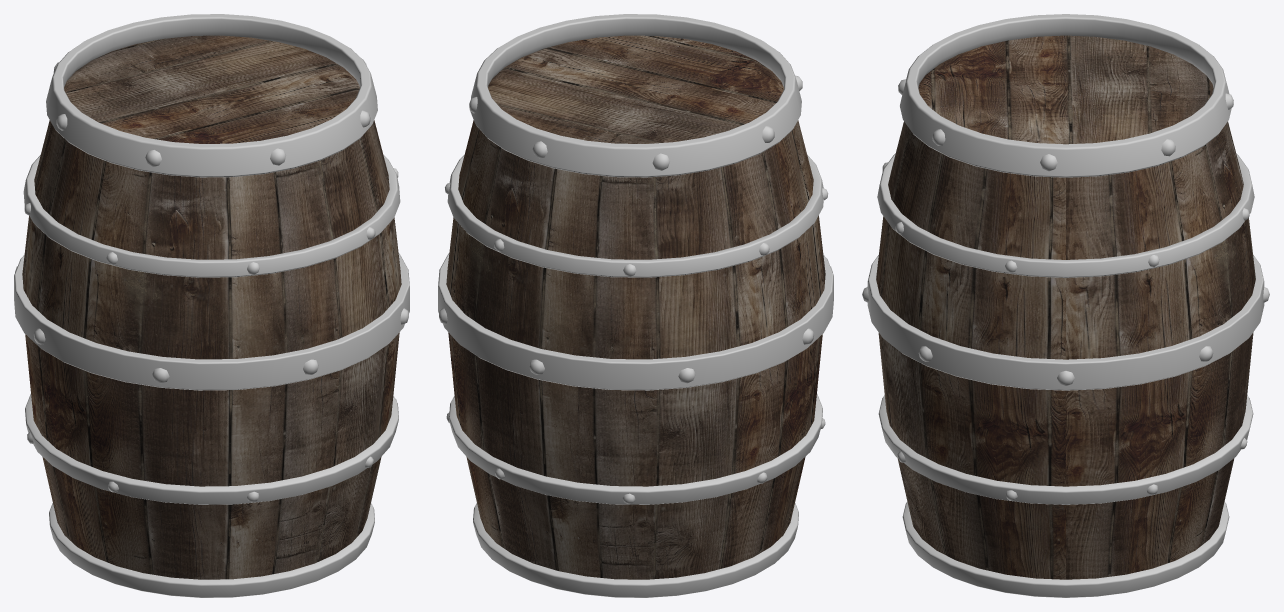
File: SM_Wooden_Barrel_01a.fbx
The picture shows the model from 3 angles, left to right: view 1: azimuth 30°, elevation 25°; view 2: azimuth 150°, elevation 25°; view 3: azimuth 270°, elevation 25°; orthographic projection.
Parts seen in each view (by area): view 1: SM_Wooden_Barrel_01a; view 2: SM_Wooden_Barrel_01a; view 3: SM_Wooden_Barrel_01a.
Part boxes in pixels (x1=…): SM_Wooden_Barrel_01a: x1=14, y1=14, x2=409, y2=597; SM_Wooden_Barrel_01a: x1=438, y1=14, x2=833, y2=597; SM_Wooden_Barrel_01a: x1=862, y1=14, x2=1269, y2=597.
Bounding box in the file's own units: 90.58 × 90.58 × 110.
